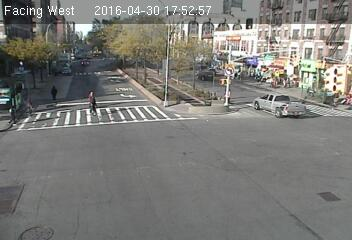neg: (184, 142, 208, 173), (273, 107, 291, 132), (266, 34, 284, 58), (116, 158, 134, 181), (166, 69, 180, 88), (122, 83, 134, 100), (92, 61, 103, 76), (312, 80, 322, 94), (215, 51, 223, 63)
pos: (82, 88, 103, 117), (2, 105, 18, 125), (48, 83, 62, 102), (223, 85, 235, 102)
